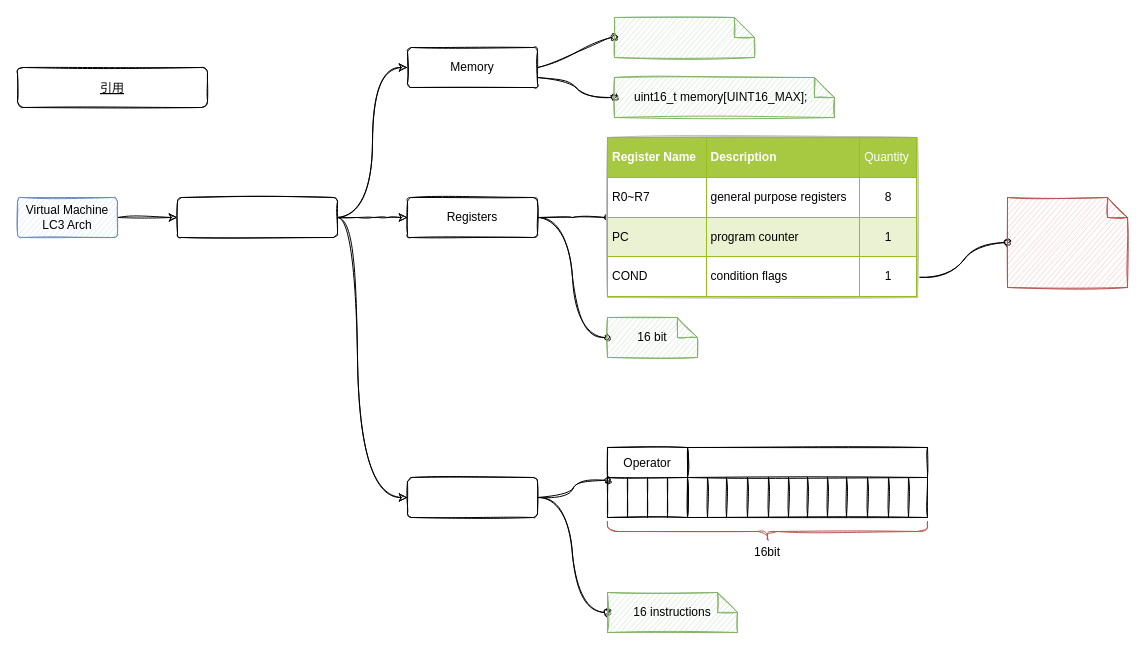
Image size: 1145x650. Some labels were removed from this diagram. The centre of each missing label's shape, as x and y in pixels:
65535 locations: (x=684, y=37)
Hardward Abstract Layer: (x=257, y=217)
Instructions: (x=472, y=497)
LC3只使用3个条件标记位，用来表示前一次计算结果的符号: (x=1067, y=242)
Operands: (x=807, y=482)
